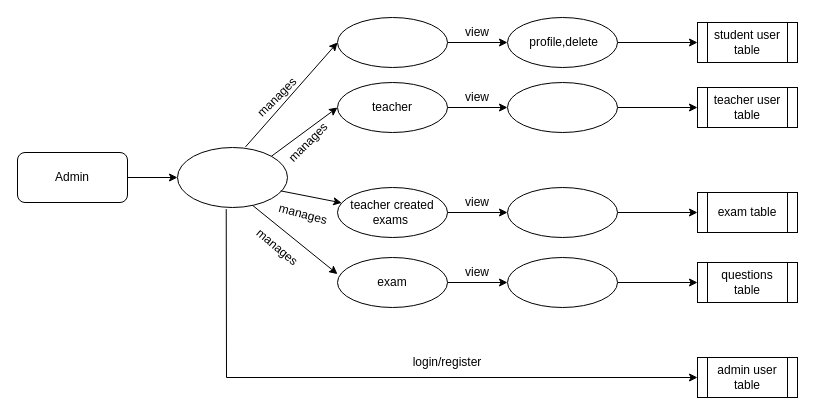
Some shapes in this 815 by 415 pixel diagram are drawn without their labels. Each missing label, with the centre of its shape:
approve,reject: (x=562, y=212)
exam questions: (x=562, y=282)
login: (x=232, y=177)
profile,approve, delete: (x=562, y=107)
student: (x=392, y=42)
